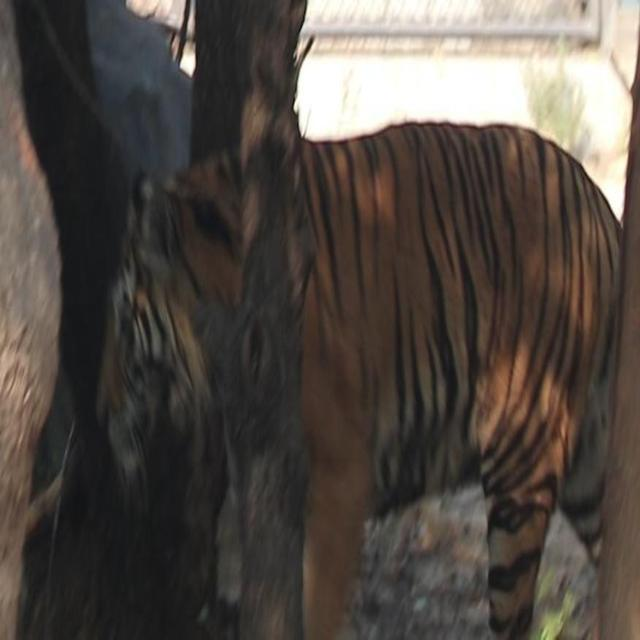tiger: (84, 117, 640, 639)
